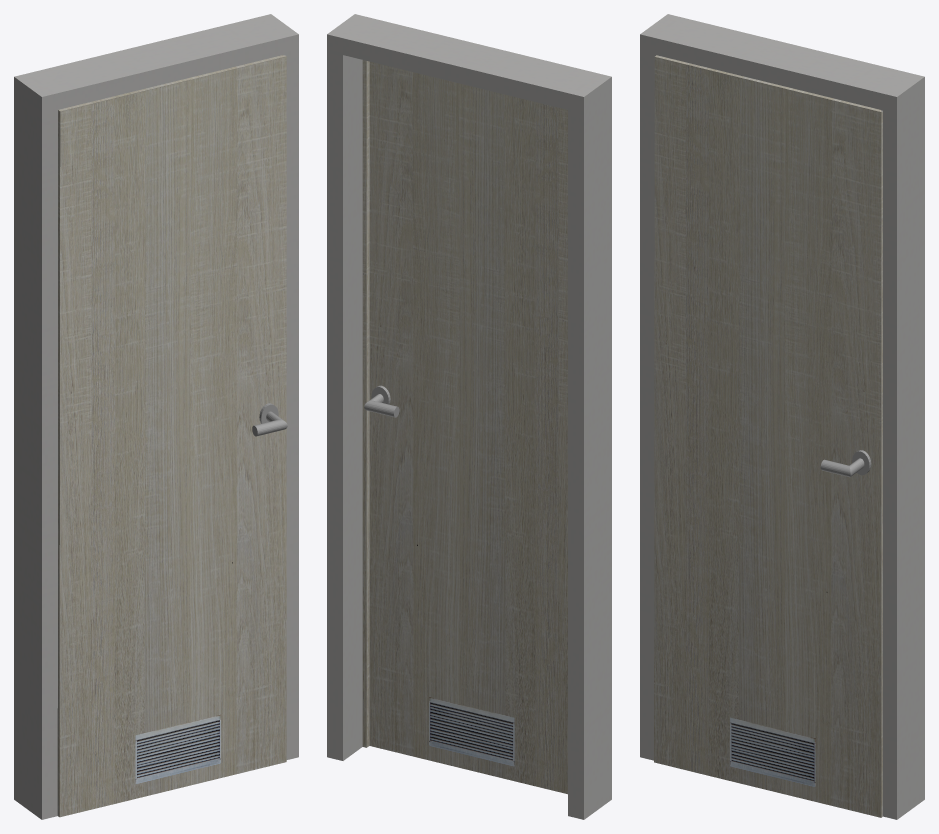
File: door_70_close.dae
3 views of the same model, side by side, from view 1: azimuth 30°, elevation 25°; view 2: azimuth 150°, elevation 25°; view 3: azimuth 330°, elevation 25° (orthographic).
Parts seen in each view (by area): view 1: dvere_90, futra_70; view 2: dvere_90, futra_70; view 3: dvere_90, futra_70.
Boxes of the visible parts, left/top/right/bottom form: dvere_90: left=57, top=55, right=287, bottom=817; futra_70: left=14, top=14, right=298, bottom=819; dvere_90: left=362, top=60, right=567, bottom=794; futra_70: left=327, top=14, right=611, bottom=819; dvere_90: left=654, top=55, right=882, bottom=817; futra_70: left=640, top=14, right=924, bottom=819.
Bounding box in the file's own units: 0.8 × 0.245 × 2.15.
Materials: 3 (2 with a texture image).
